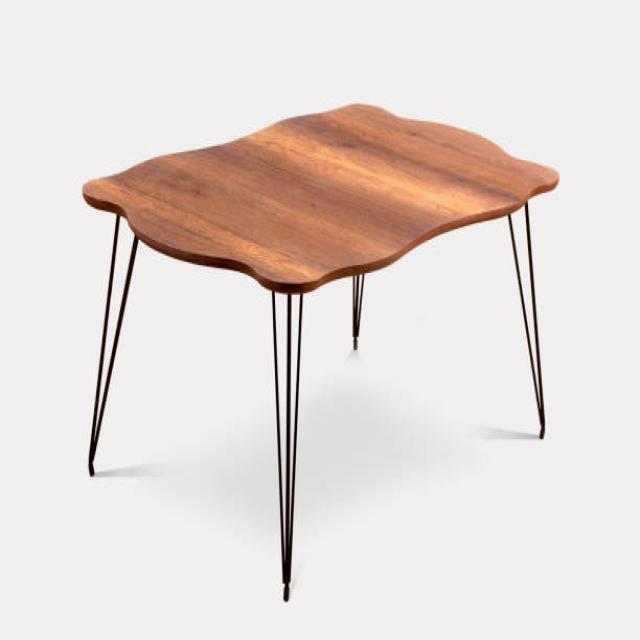table: (80, 100, 560, 601)
